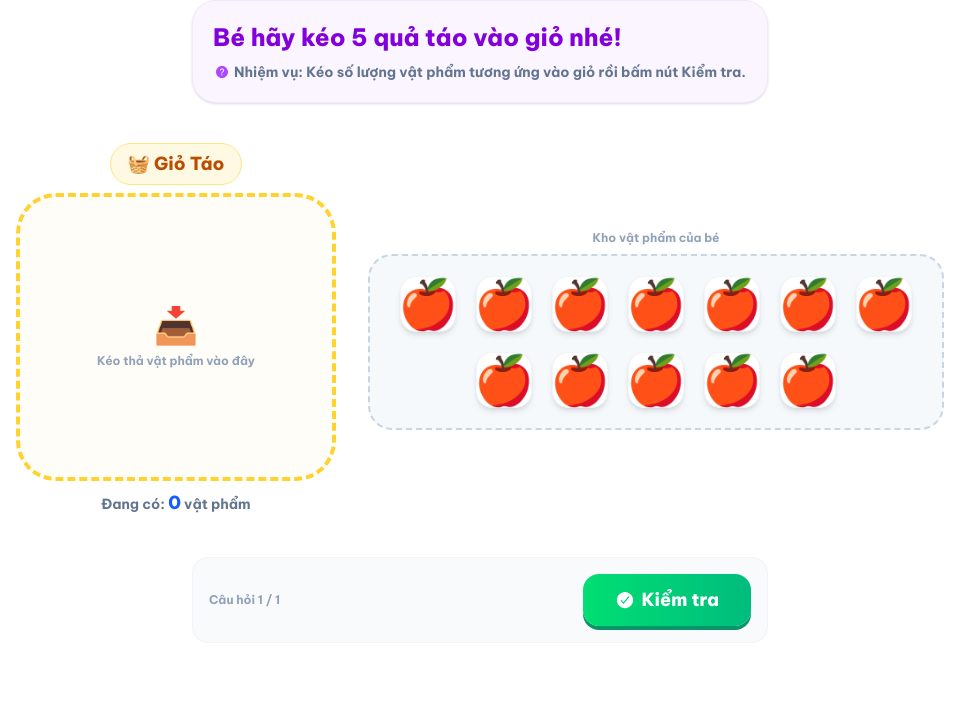
RealWorldMathGame › shows error hint when checking empty targets
Click the button "Kiểm tra" at coordinates (667, 600), box [583,574,751,626]
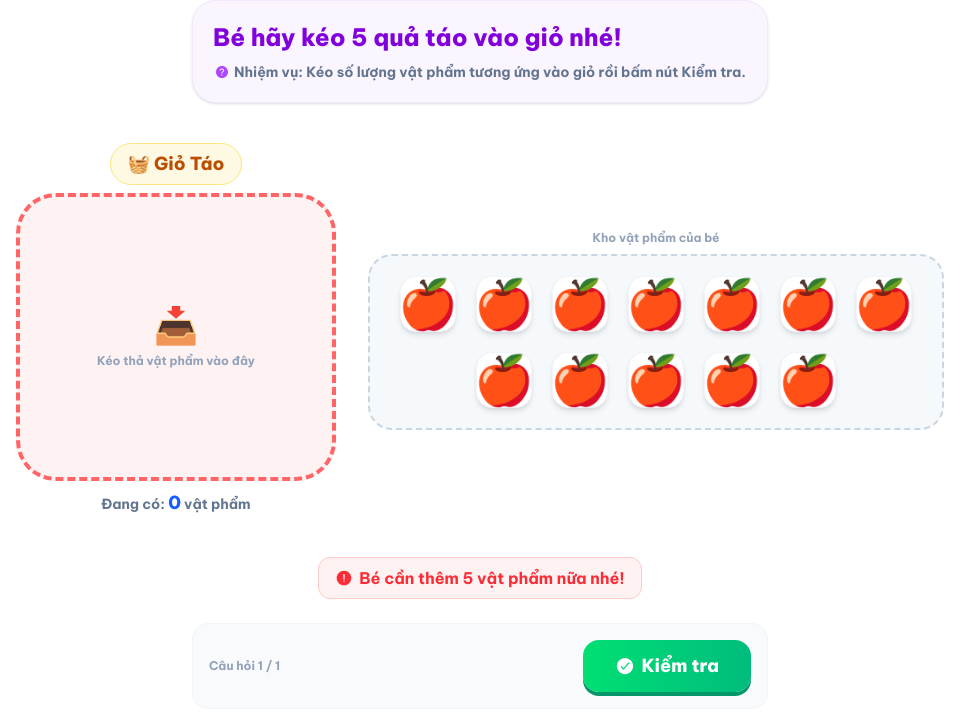
Expected: the text "Bé cần thêm 5 vật phẩm nữa nhé!" is shown, [359,566,625,590]
